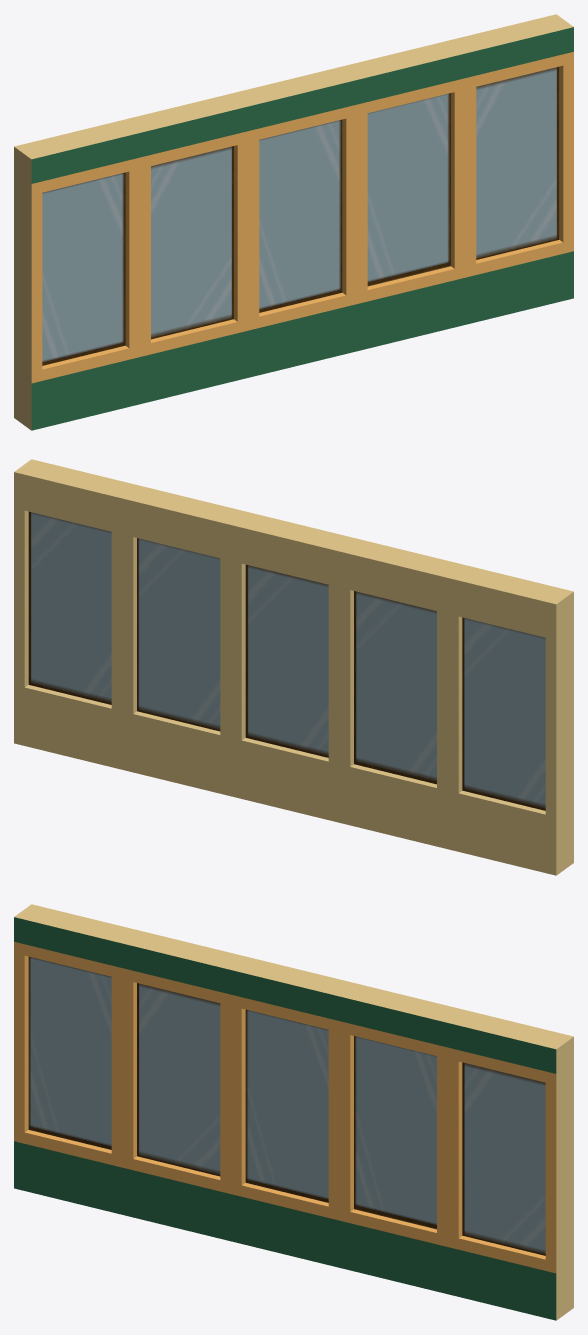
Rendered from Tribunal_Mur02.fbx.
The picture shows the model from 3 angles, top to bottom: view 1: azimuth 30°, elevation 25°; view 2: azimuth 150°, elevation 25°; view 3: azimuth 330°, elevation 25°; orthographic projection.
Visible parts, largest first — view 1: Mur02; view 2: Mur02; view 3: Mur02.
Boxes of the visible parts, left/top/right/bottom form: Mur02: left=14, top=14, right=573, bottom=430; Mur02: left=14, top=459, right=573, bottom=875; Mur02: left=14, top=904, right=573, bottom=1320.
Bounding box in the file's own units: 13.57 × 6.49 × 0.7612.
